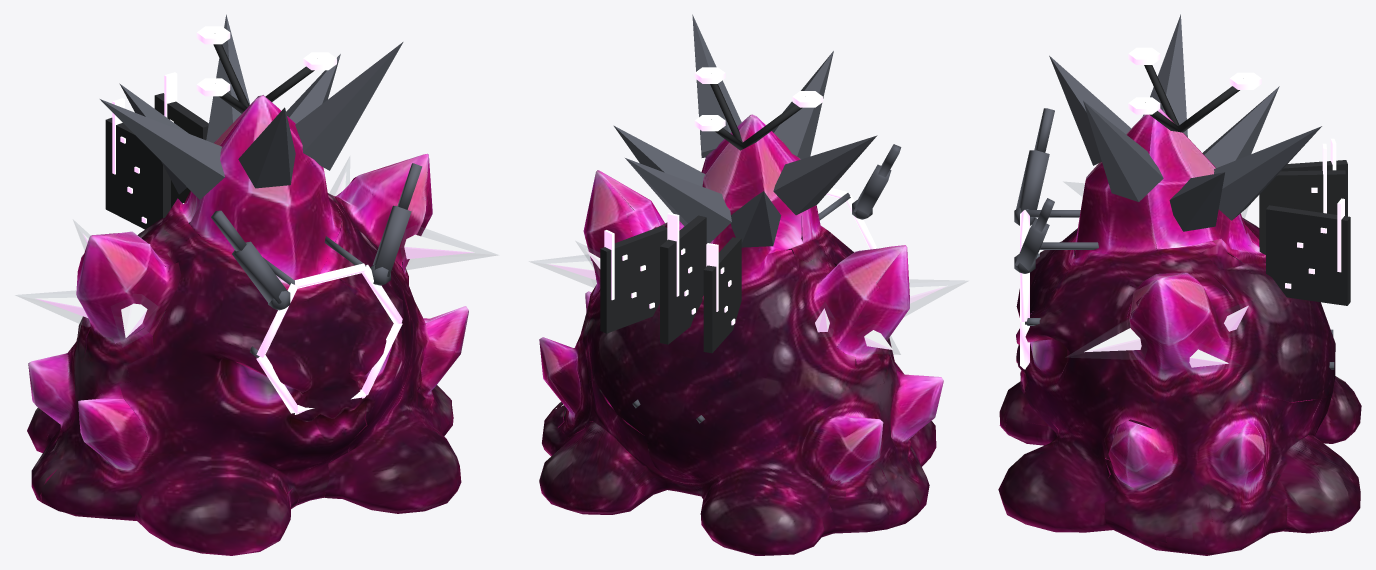
File: Monster_NULL.glb
3 renders of one model, left to right at view 1: azimuth 30°, elevation 25°; view 2: azimuth 150°, elevation 25°; view 3: azimuth 270°, elevation 25°, orthographic. The views are drawn at different scales.
Parts seen in each view (by area): view 1: Monster_NULL, Monster_NULL_Evolution; view 2: Monster_NULL, Monster_NULL_Evolution; view 3: Monster_NULL, Monster_NULL_Evolution.
Part boxes in pixels (x1,y1,x2,y2): Monster_NULL: (27,95,468,555); Monster_NULL_Evolution: (16,14,497,414); Monster_NULL: (539,114,943,555); Monster_NULL_Evolution: (529,14,967,423); Monster_NULL: (998,108,1361,555); Monster_NULL_Evolution: (1014,14,1350,375).
Bounding box in the file's own units: 2.22 × 2.3 × 1.81.
5 materials, 1 textured.
